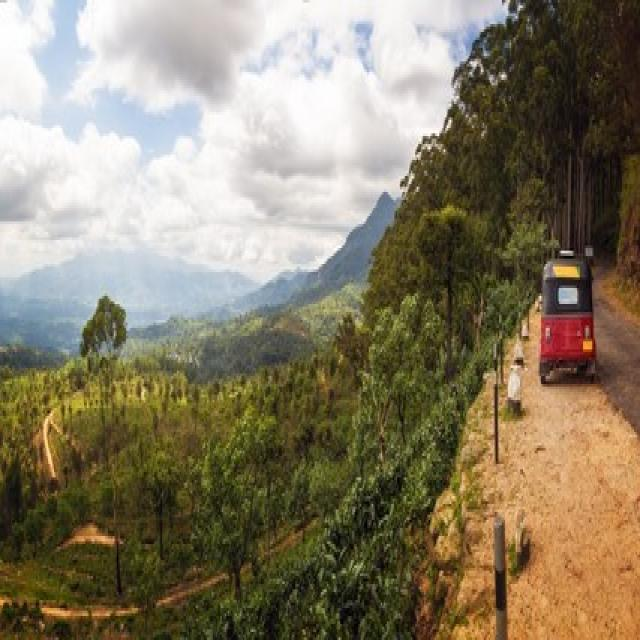three wheeler: (540, 256, 594, 384)
